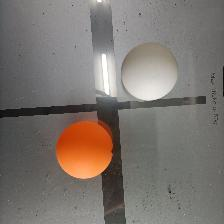WhiteBall: (120, 41, 178, 101)
YellowBall: (54, 120, 113, 179)
